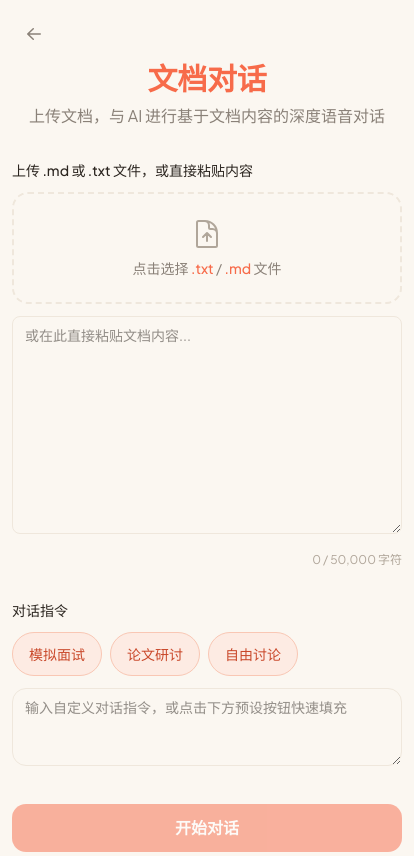
Test: DocChatSetup › enables start button when document content is provided
Type "Sample doc content" into the text box with placeholder "或在此直接粘贴文档内容..." at (207, 425), box 12,316 -> 402,534
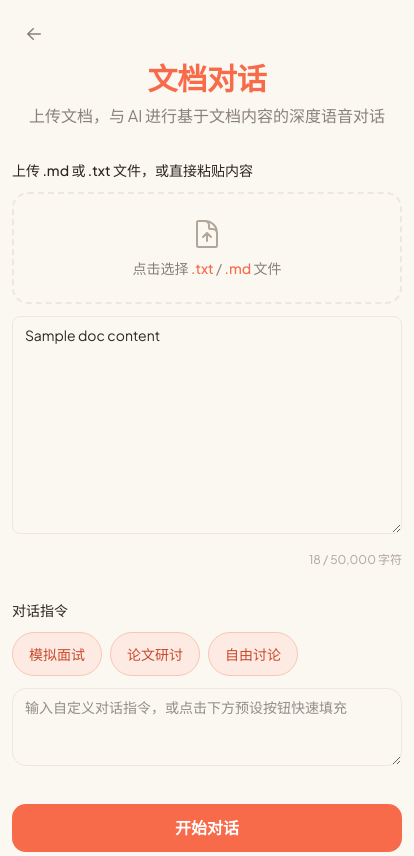
Now the button "开始对话" is enabled, box 12,804 -> 402,852
